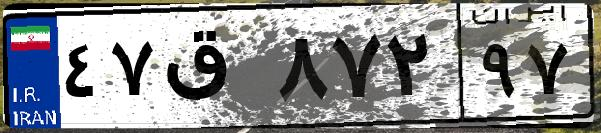2: (385, 28, 445, 110)
4: (57, 26, 110, 100)
7: (330, 28, 385, 110), (525, 38, 570, 115), (110, 28, 158, 98)
8: (270, 28, 330, 110)
9: (475, 38, 525, 113)
ق: (158, 20, 270, 120)
